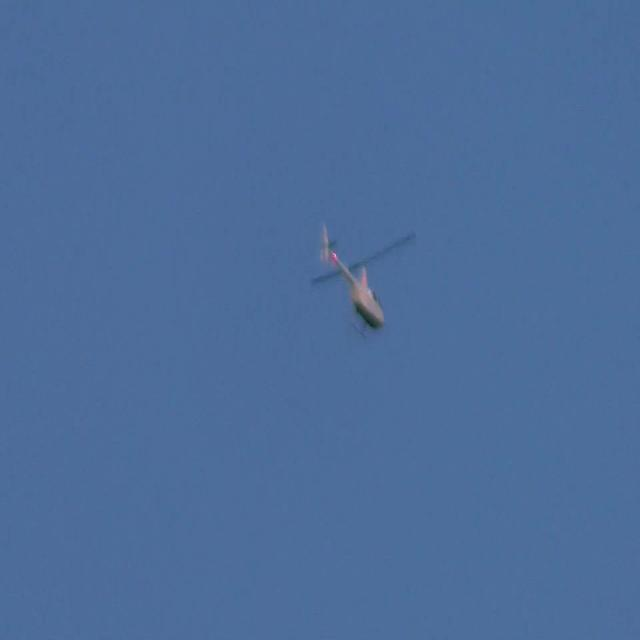CIV_HELO: (320, 223, 386, 341)
